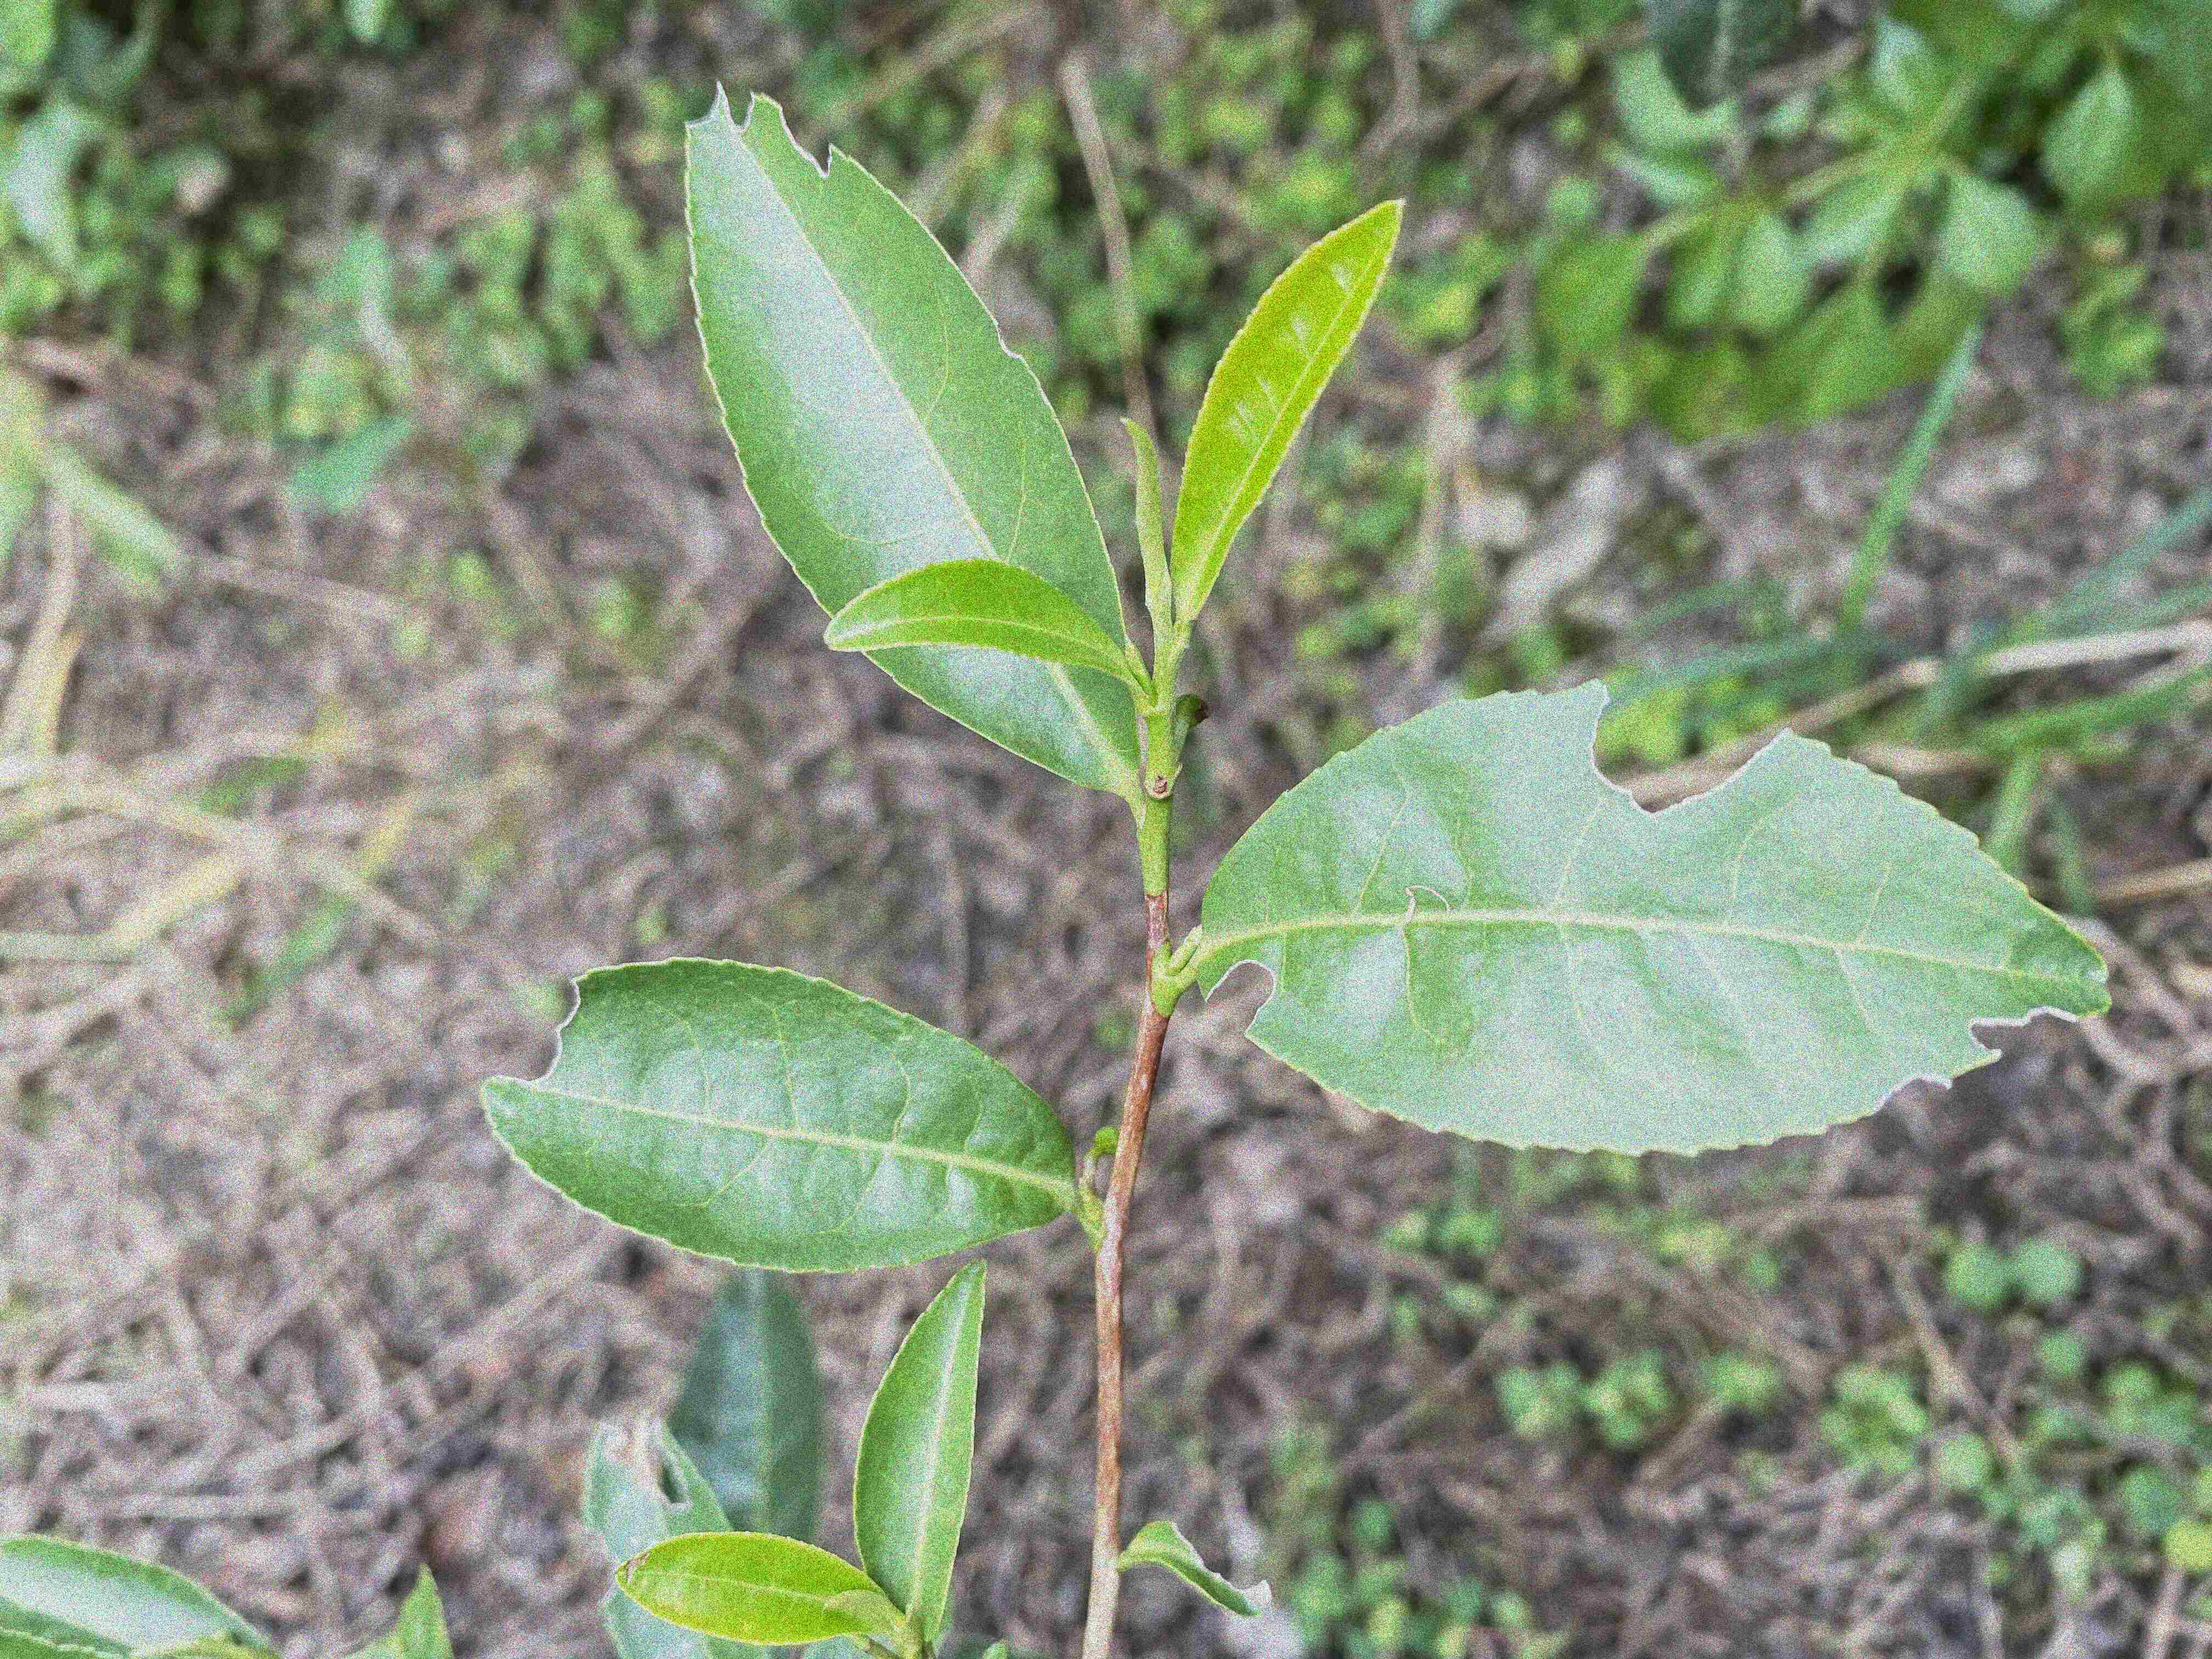chihuo_high: (1193, 674, 2114, 1157), (679, 75, 1141, 798)
chihuo_low: (477, 953, 1078, 1276)
healthy: (1163, 199, 1406, 627), (852, 1255, 993, 1638), (824, 559, 1136, 688)
tanju_low: (615, 1534, 890, 1645)
